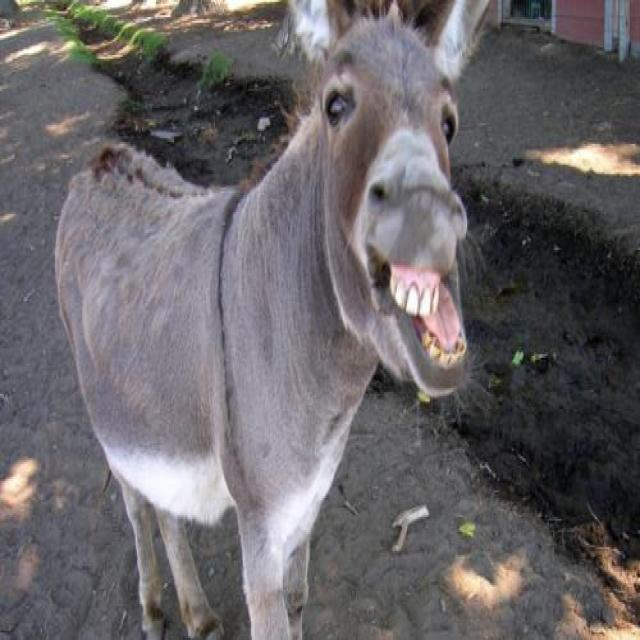Donkey: (58, 0, 490, 640)
